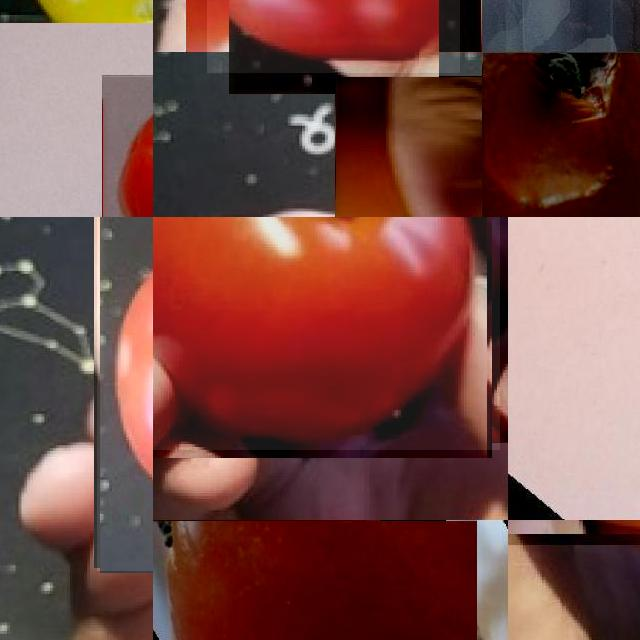0: (102, 75, 153, 217)
Fresh Tomato: (153, 217, 500, 450), (96, 217, 153, 570), (207, 0, 460, 73)
Rotten Tomato: (153, 520, 477, 640), (482, 52, 640, 217), (335, 76, 482, 217)
